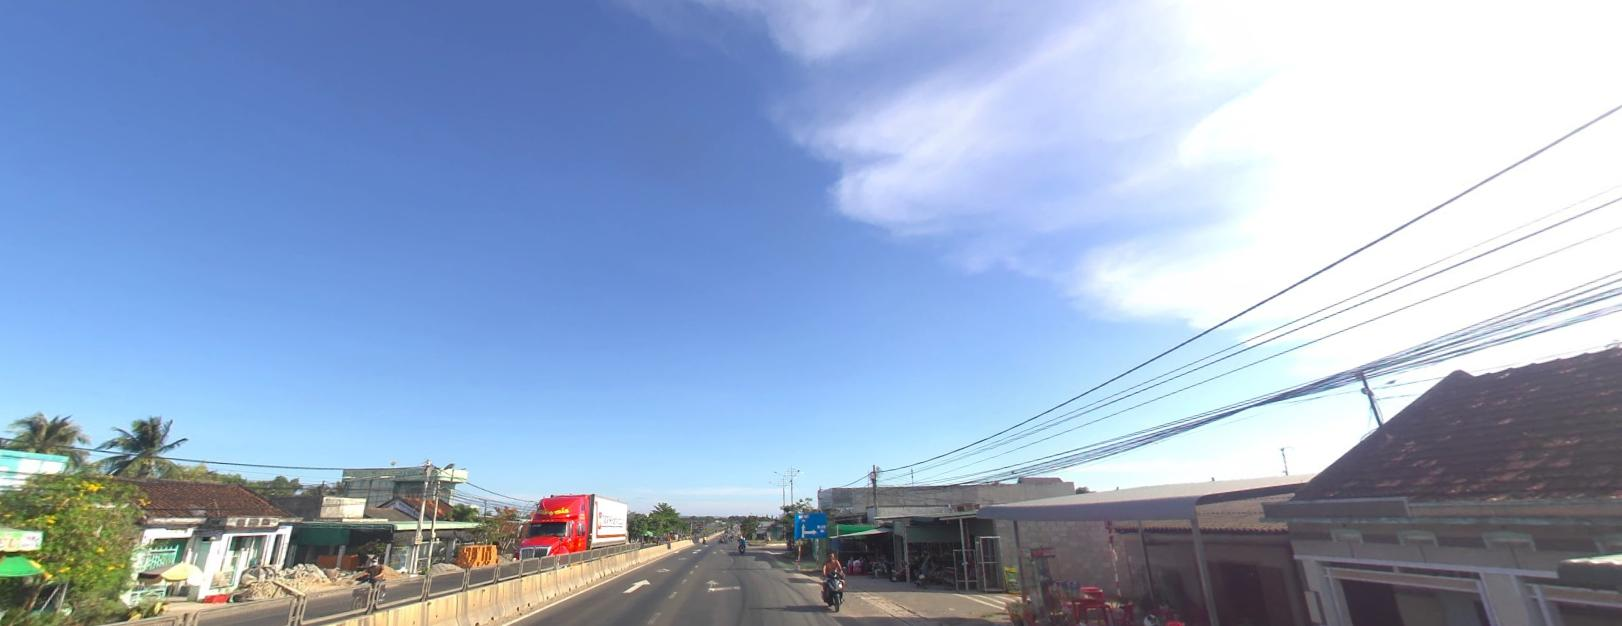Cam nguoc chieu: (697, 523, 700, 527)
Hieu lenh: (696, 527, 700, 531)
